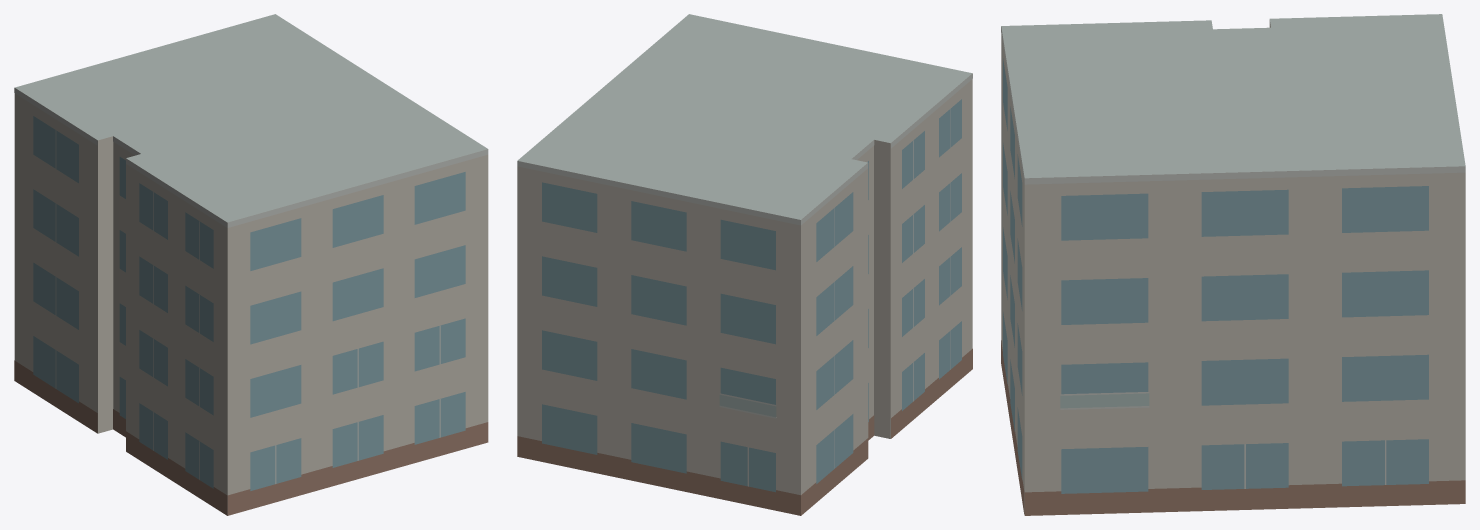
Rendered from survey-upis-32908784.glb.
3 views of the same model, side by side, from view 1: azimuth 30°, elevation 25°; view 2: azimuth 150°, elevation 25°; view 3: azimuth 270°, elevation 25° (orthographic). The views are drawn at different scales.
Visible parts, largest first — view 1: survey-upis-32908784.tmp; view 2: survey-upis-32908784.tmp; view 3: survey-upis-32908784.tmp.
Boxes of the visible parts, x1,y1,x2,y2 form: survey-upis-32908784.tmp: (14,14,488,515); survey-upis-32908784.tmp: (517,14,972,515); survey-upis-32908784.tmp: (1001,14,1465,515).
Bounding box in the file's own units: 13.62 × 13.05 × 16.28.
